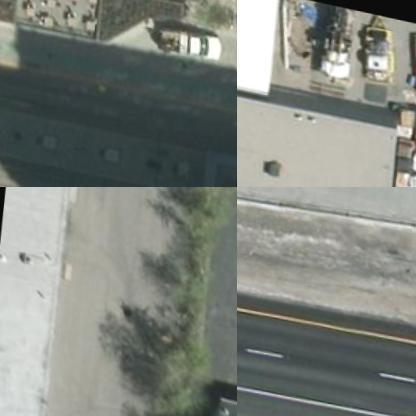car: (156, 14, 222, 58), (396, 15, 415, 88)
